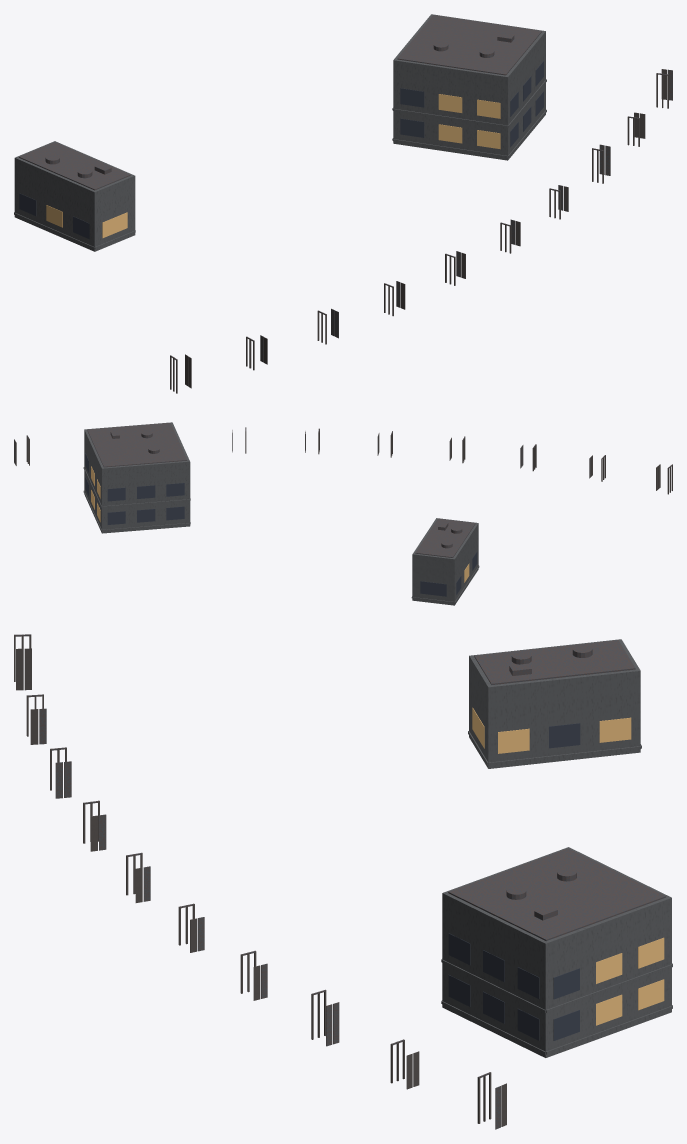
Rendered from SM_City_AbrajAlMalih_6.fbx.
The picture shows the model from 3 angles, top to bottom: view 1: azimuth 30°, elevation 25°; view 2: azimuth 150°, elevation 25°; view 3: azimuth 270°, elevation 25°; orthographic projection. The views are drawn at different scales.
Visible parts, largest first — view 1: SM_City_AbrajAlMalih_6; view 2: SM_City_AbrajAlMalih_6; view 3: SM_City_AbrajAlMalih_6.
Boxes of the visible parts, bbox=[...] form: SM_City_AbrajAlMalih_6: bbox=[14, 14, 672, 393]; SM_City_AbrajAlMalih_6: bbox=[14, 422, 672, 605]; SM_City_AbrajAlMalih_6: bbox=[14, 634, 672, 1129].
Size of the model in its own units: 7421 by 930 by 4590.
Materials: 6 (6 with a texture image).
